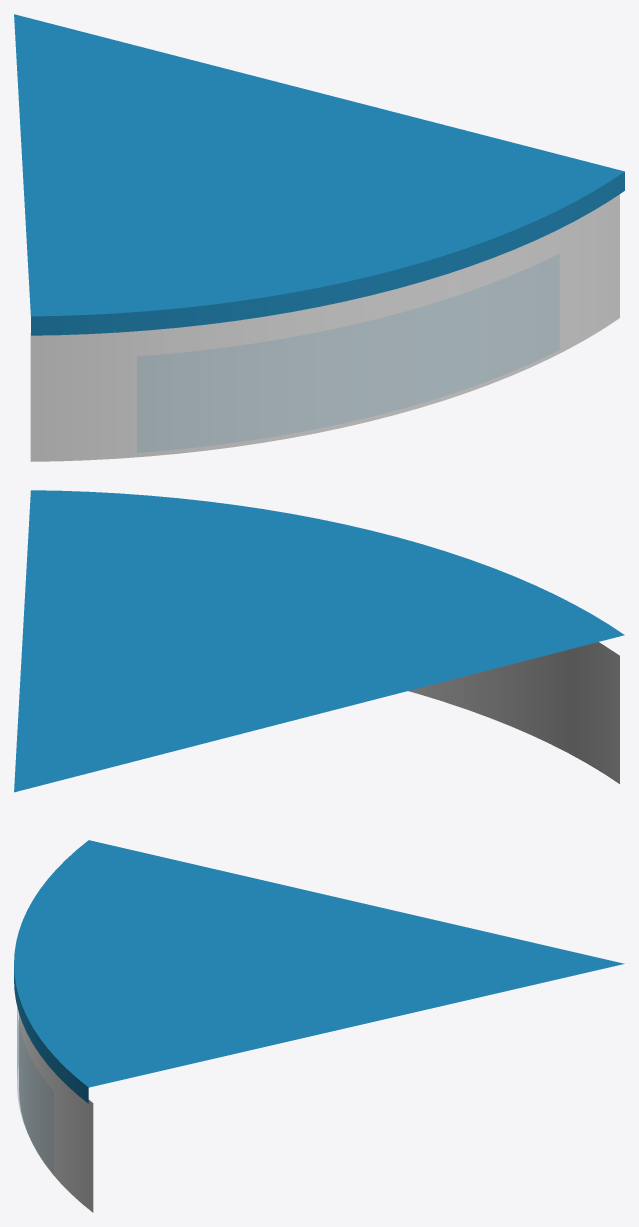
The model's file is pool_wall.glb.
3 views of the same model, one above another, from view 1: azimuth 30°, elevation 25°; view 2: azimuth 150°, elevation 25°; view 3: azimuth 270°, elevation 25° (orthographic). The views are drawn at different scales.
Parts seen in each view (by area): view 1: Pool wall (ring); view 2: Pool wall (ring); view 3: Pool wall (ring).
Part boxes in pixels (x1,y1,x2,y2): Pool wall (ring): [14, 14, 624, 461]; Pool wall (ring): [14, 490, 624, 792]; Pool wall (ring): [14, 840, 624, 1212].
Bounding box in the file's own units: 5.8 × 1.38 × 6.05.
